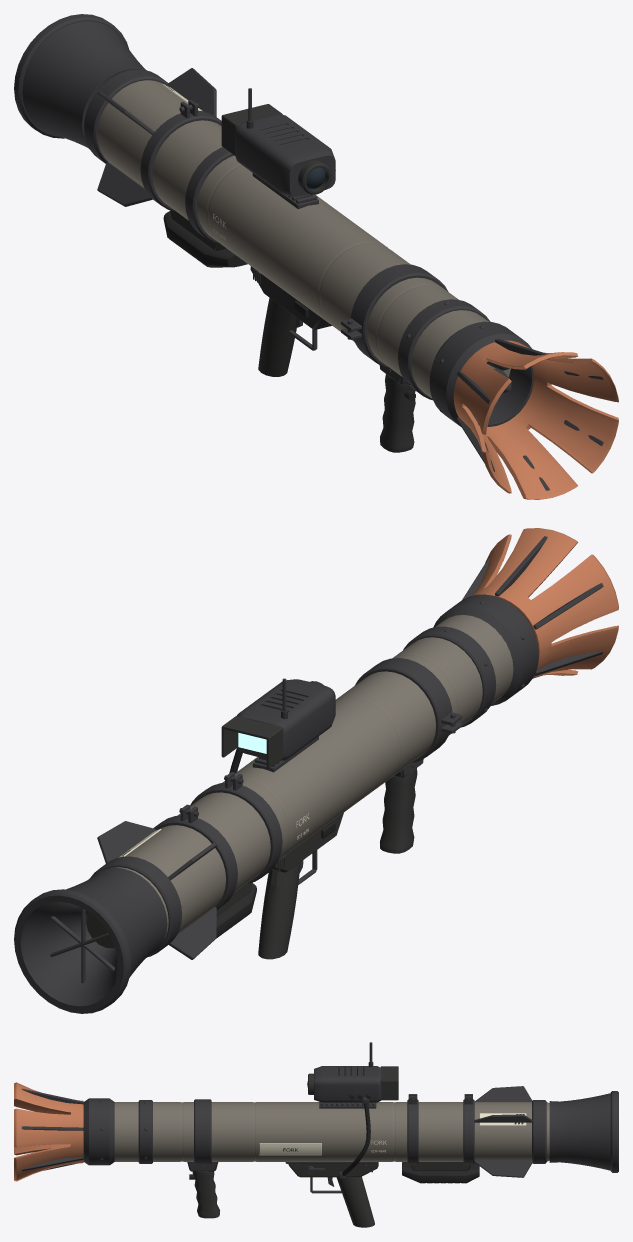
The model's file is fork.glb.
3 renders of one model, top to bottom at view 1: azimuth 30°, elevation 25°; view 2: azimuth 150°, elevation 25°; view 3: azimuth 270°, elevation 25°, orthographic. The views are drawn at different scales.
Parts seen in each view (by area): view 1: Body; view 2: Body; view 3: Body.
Part boxes in pixels (left/top/right/bottom): Body: left=14, top=14, right=618, bottom=499; Body: left=14, top=528, right=618, bottom=1013; Body: left=14, top=1042, right=618, bottom=1227.
Bounding box in the file's own units: 0.1903 × 0.3755 × 1.17.
